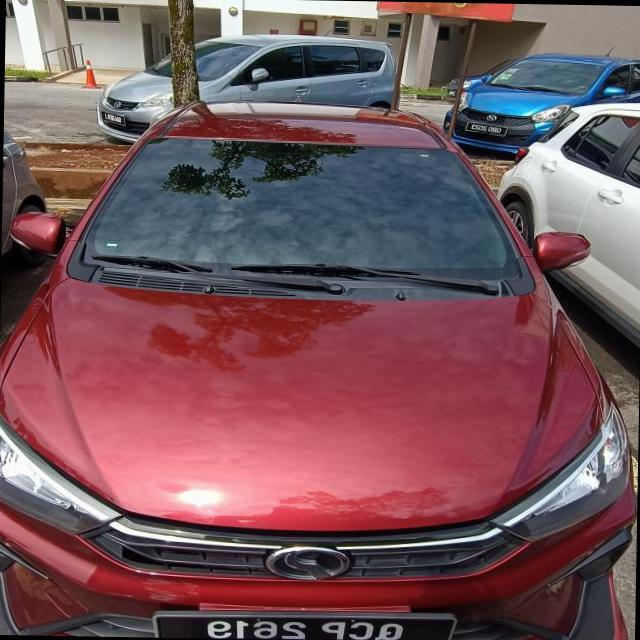PeroduaBezza: (0, 92, 640, 640)
